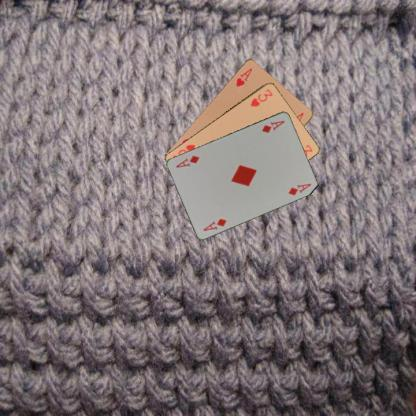3h: (248, 86, 274, 108)
Ad: (200, 215, 228, 232), (259, 117, 286, 134)
Ah: (233, 66, 254, 89)
